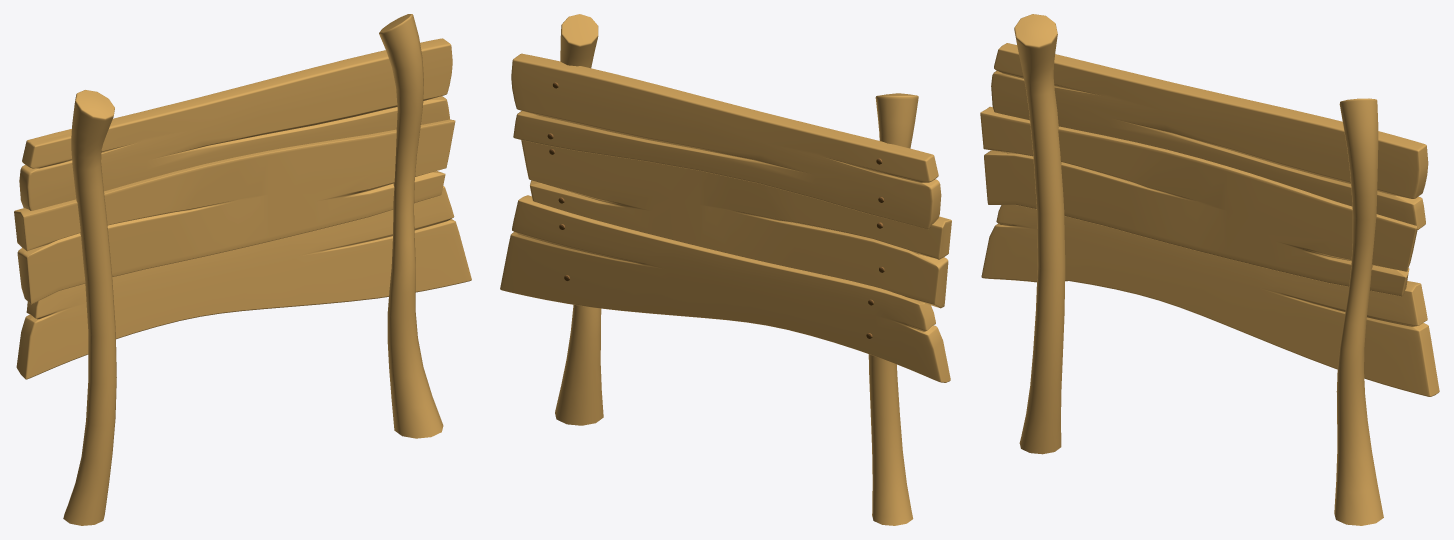
Rendered from board.glb.
The picture shows the model from 3 angles, left to right: view 1: azimuth 30°, elevation 25°; view 2: azimuth 150°, elevation 25°; view 3: azimuth 330°, elevation 25°; orthographic projection.
Parts seen in each view (by area): view 1: Planks, Poles; view 2: Planks, Poles; view 3: Planks, Poles.
Boxes of the visible parts, <box> form: Planks: <box>14,38,471,379</box>; Poles: <box>63,14,443,525</box>; Planks: <box>500,53,951,382</box>; Poles: <box>555,14,918,525</box>; Planks: <box>980,43,1439,396</box>; Poles: <box>1014,14,1383,525</box>.
Bounding box in the file's own units: 0.0295 × 0.0267 × 0.00406.
Materials: 2 (1 with a texture image).
